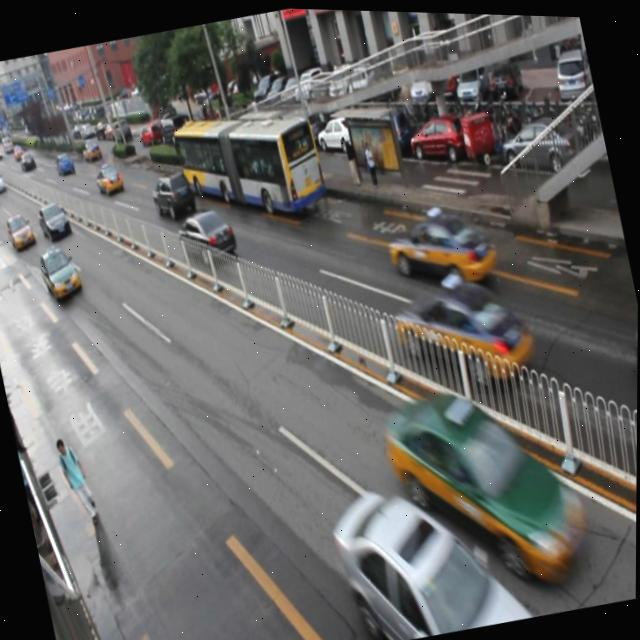car: (379, 366, 597, 606), (325, 462, 530, 640), (388, 253, 541, 398), (383, 195, 501, 298), (174, 205, 239, 265), (38, 243, 86, 306), (148, 166, 196, 219), (36, 200, 73, 244), (5, 211, 37, 250), (93, 160, 124, 196)
van: (169, 92, 330, 235)
